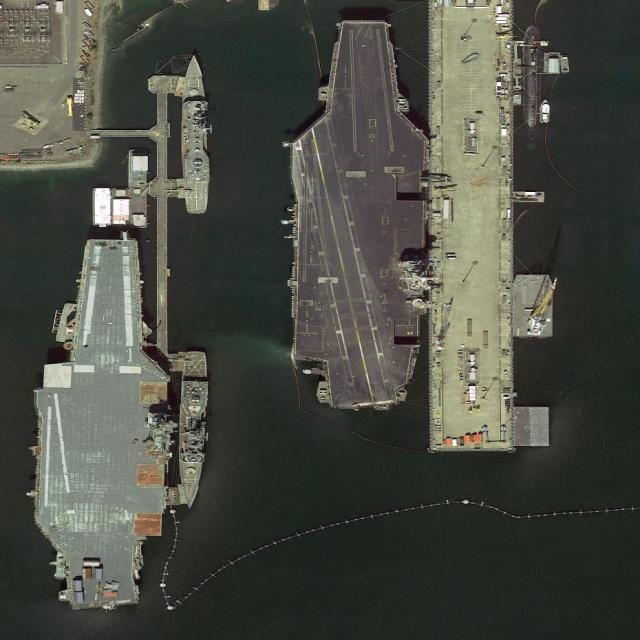Aircraft Carrier: (288, 20, 428, 409), (34, 239, 169, 610)
Dock: (149, 71, 178, 370)
Frigate: (178, 52, 213, 213), (175, 350, 209, 509)
Submarine: (526, 24, 539, 129)
